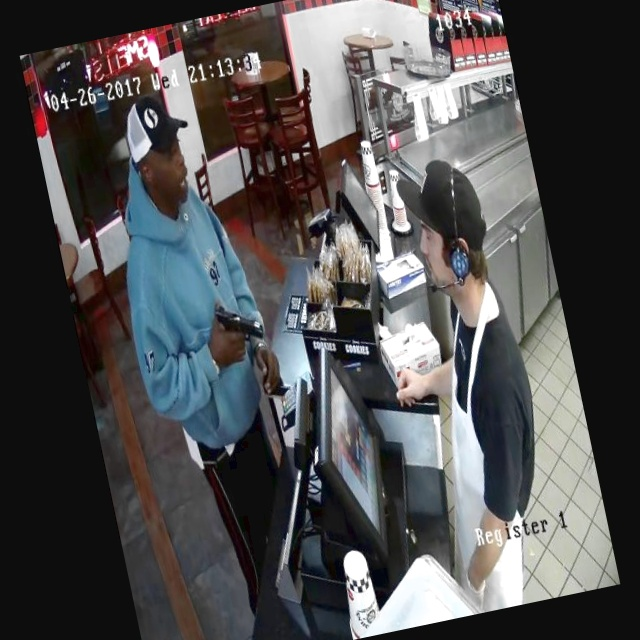gun: (195, 288, 276, 362)
